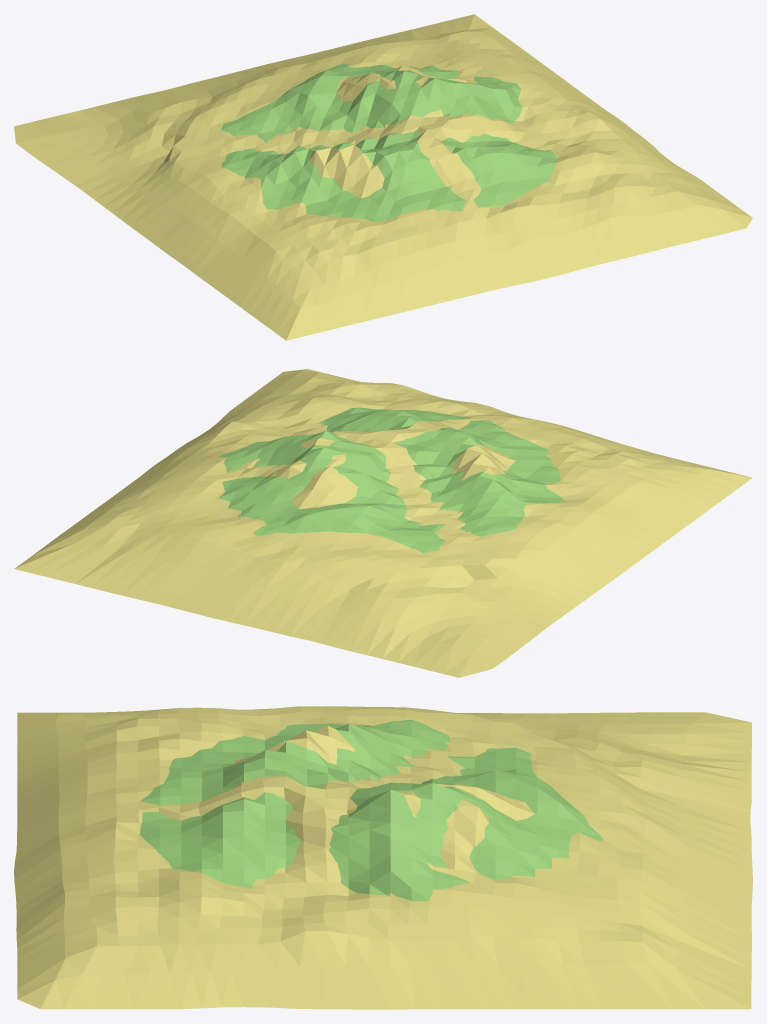
File: Land_6.fbx
3 renders of one model, top to bottom at view 1: azimuth 30°, elevation 25°; view 2: azimuth 150°, elevation 25°; view 3: azimuth 270°, elevation 25°, orthographic. The views are drawn at different scales.
Visible parts, largest first — view 1: Land_6; view 2: Land_6; view 3: Land_6.
Part boxes in pixels (x1,y1,x2,y2): Land_6: (14, 14, 752, 340); Land_6: (14, 369, 752, 677); Land_6: (14, 706, 752, 1009).
Bounding box in the file's own units: 2754 × 461 × 2892.
1 material, 1 textured.
